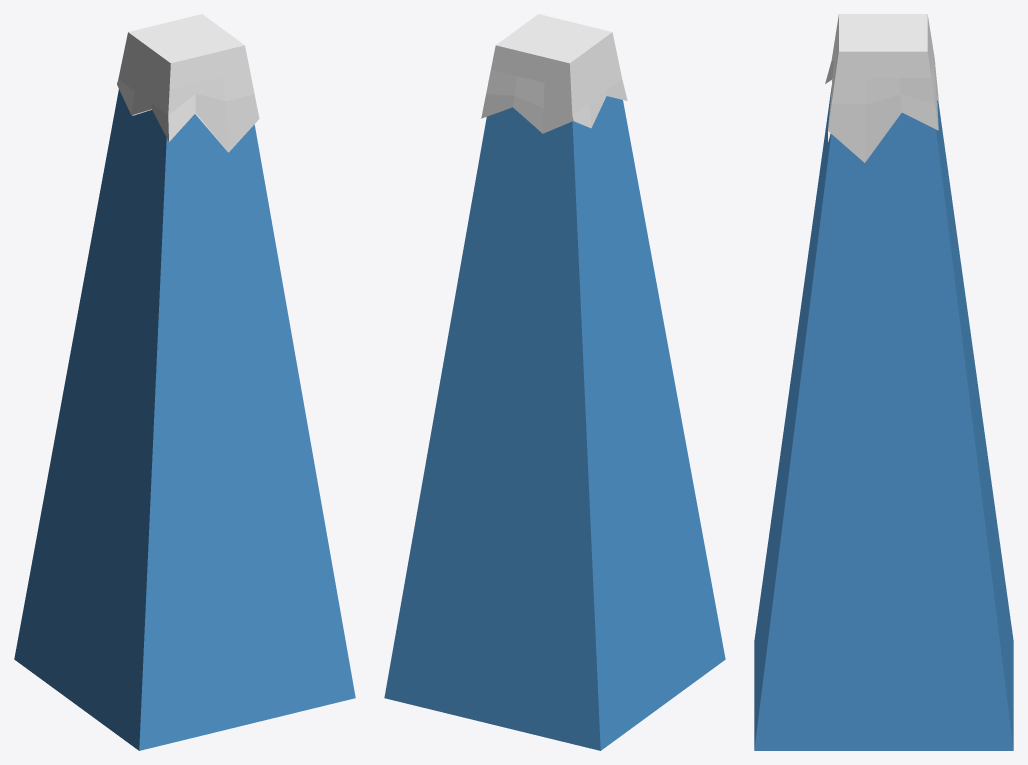
Rendered from Mount.fbx.
The picture shows the model from 3 angles, left to right: view 1: azimuth 30°, elevation 25°; view 2: azimuth 150°, elevation 25°; view 3: azimuth 270°, elevation 25°; orthographic projection. The views are drawn at different scales.
Parts seen in each view (by area): view 1: Cube, Cube.002; view 2: Cube, Cube.002; view 3: Cube, Cube.002.
Boxes of the visible parts, <box> form: Cube: <box>14,89,355,750</box>; Cube.002: <box>117,14,259,152</box>; Cube: <box>384,96,725,750</box>; Cube.002: <box>481,14,627,133</box>; Cube: <box>754,87,1013,750</box>; Cube.002: <box>825,14,938,162</box>.
Size of the model in its own units: 1118 by 3159 by 1118.
